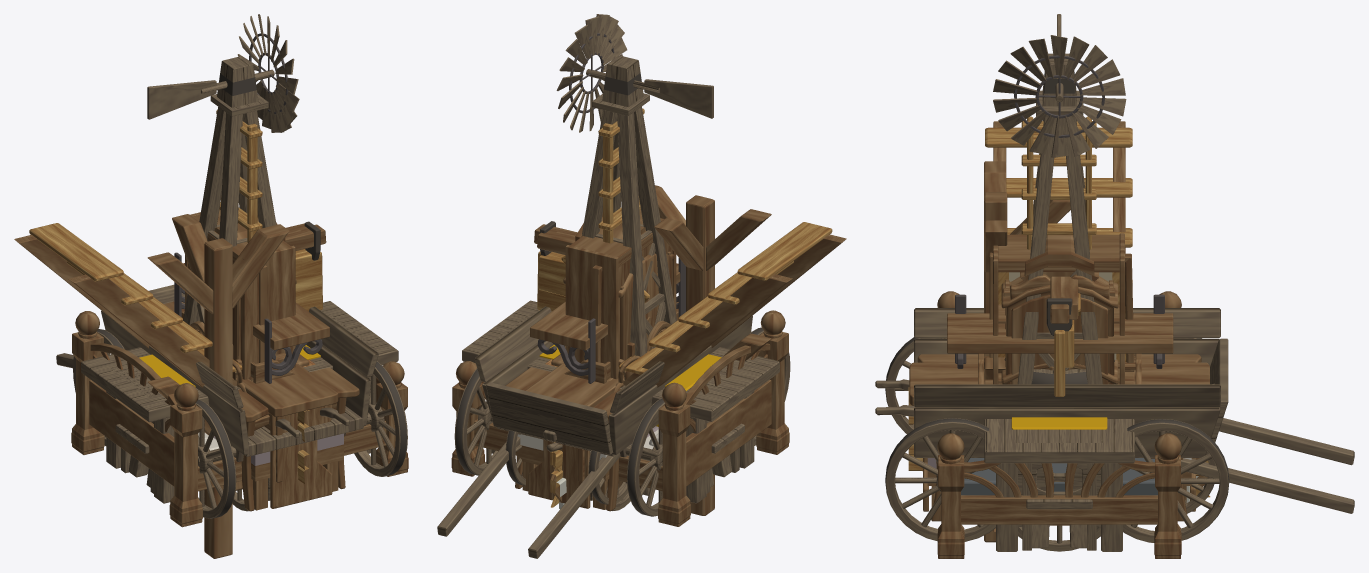
The model's file is carpentry.glb.
3 renders of one model, left to right at view 1: azimuth 30°, elevation 25°; view 2: azimuth 150°, elevation 25°; view 3: azimuth 270°, elevation 25°, orthographic. The views are drawn at different scales.
Parts seen in each view (by area): view 1: FancyDoubleBed, Windmill, WoodenStairsOpen, WoodenCart, VerticalBraceDouble, WoodenCounterWide, LargeWalnutTable, TallShelves, WallShelf, WindmillBlades, WheelSpoked.002, WheelSpoked.003 (+11 smaller); view 2: WoodenCart, FancyDoubleBed, Windmill, WoodenStairsOpen, TallShelves, LargeWalnutTable, WoodenCounterWide, WindmillBlades, WallShelf, VerticalBraceCorner, VerticalBraceDouble, WheelSpoked.004 (+14 smaller); view 3: WoodenCart, FancyDoubleBed, WindmillBlades, Windmill, LargeWalnutTable, WallShelf, WheelSpoked.002, WoodenStairsOpen, TallShelves, WheelSpoked.001, FestivalTableGold, WoodenCounterWide (+16 smaller).
Boxes of the visible parts, x1,y1,x2,y2 form: FancyDoubleBed: [71, 311, 408, 527]; Windmill: [147, 56, 296, 346]; WoodenStairsOpen: [14, 223, 242, 387]; WoodenCart: [56, 284, 378, 465]; VerticalBraceDouble: [147, 230, 287, 558]; WoodenCounterWide: [164, 301, 338, 508]; LargeWalnutTable: [81, 301, 398, 503]; TallShelves: [185, 209, 295, 379]; WallShelf: [174, 252, 329, 383]; WindmillBlades: [237, 14, 299, 132]; WheelSpoked.002: [354, 361, 407, 476]; WheelSpoked.003: [195, 399, 236, 518]; WoodenCart: [437, 306, 752, 558]; FancyDoubleBed: [451, 310, 789, 526]; Windmill: [564, 55, 713, 495]; WoodenStairsOpen: [619, 222, 846, 387]; TallShelves: [565, 209, 676, 378]; LargeWalnutTable: [462, 300, 779, 503]; WoodenCounterWide: [525, 302, 678, 508]; WindmillBlades: [556, 14, 627, 132]; WallShelf: [530, 258, 685, 383]; VerticalBraceCorner: [654, 185, 712, 515]; VerticalBraceDouble: [656, 187, 771, 515]; WheelSpoked.004: [627, 398, 665, 516]; WoodenCart: [914, 308, 1354, 513]; FancyDoubleBed: [937, 291, 1181, 558]; WindmillBlades: [993, 35, 1126, 157]; Windmill: [1017, 14, 1102, 529]; LargeWalnutTable: [984, 419, 1134, 551]; WallShelf: [947, 294, 1173, 368]; WheelSpoked.002: [885, 418, 995, 541]; WoodenStairsOpen: [985, 121, 1132, 282]; TallShelves: [993, 233, 1124, 384]; WheelSpoked.001: [1123, 419, 1229, 542]; FestivalTableGold: [1011, 417, 1107, 550]; WoodenCounterWide: [909, 362, 1209, 511].
Size of the model in its own units: 2.71 by 3.98 by 3.18.
30 materials, 4 textured.
